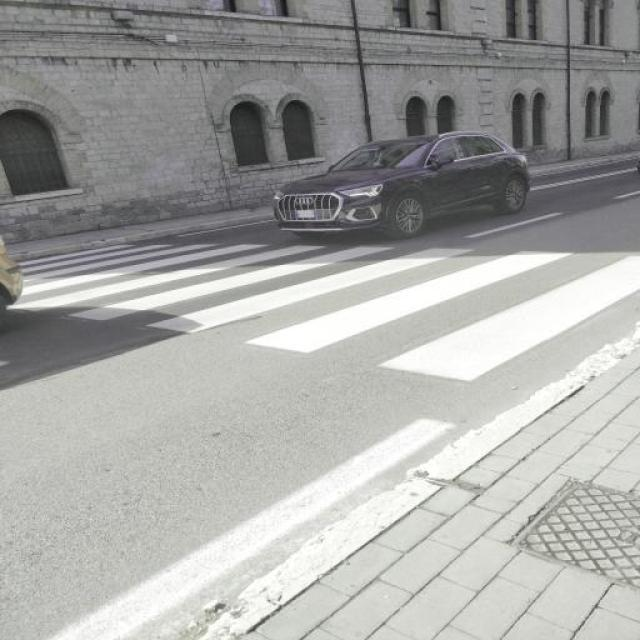crosswalk: (15, 241, 640, 383)
